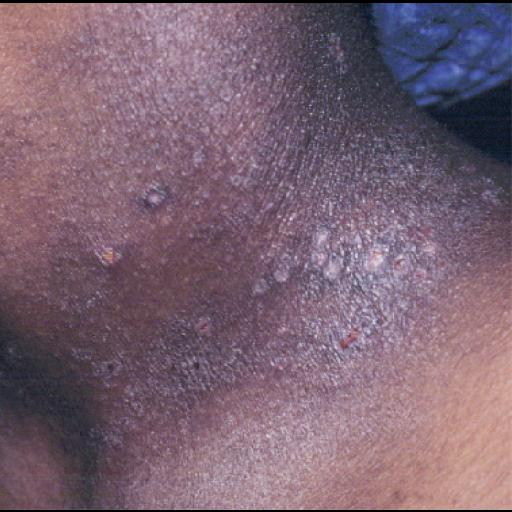Skin_Lesion: (309, 235, 351, 293), (132, 170, 170, 232), (238, 262, 300, 298), (362, 238, 396, 290), (326, 330, 372, 354), (192, 312, 224, 344), (95, 244, 123, 266)
